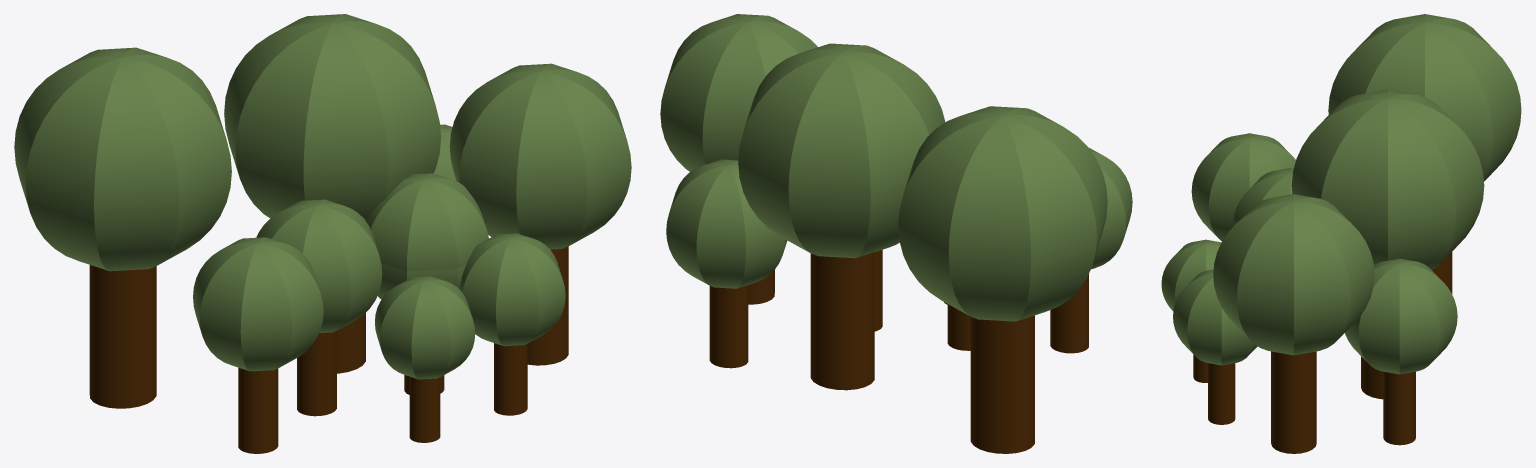
File: cluster.fbx
The picture shows the model from 3 angles, left to right: view 1: azimuth 30°, elevation 25°; view 2: azimuth 150°, elevation 25°; view 3: azimuth 270°, elevation 25°; orthographic projection. The views are drawn at different scales.
Parts seen in each view (by area): view 1: BBB12; view 2: BBB12; view 3: BBB12.
Part boxes in pixels (x1=…): BBB12: x1=14, y1=14, x2=631, y2=453; BBB12: x1=660, y1=14, x2=1132, y2=453; BBB12: x1=1161, y1=14, x2=1521, y2=453.
Size of the model in its own units: 4.95 by 3.1 by 3.46.
